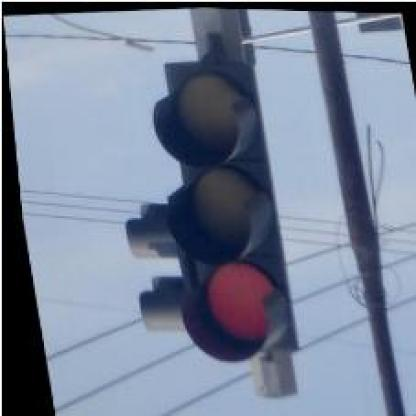red: (138, 52, 298, 362)
